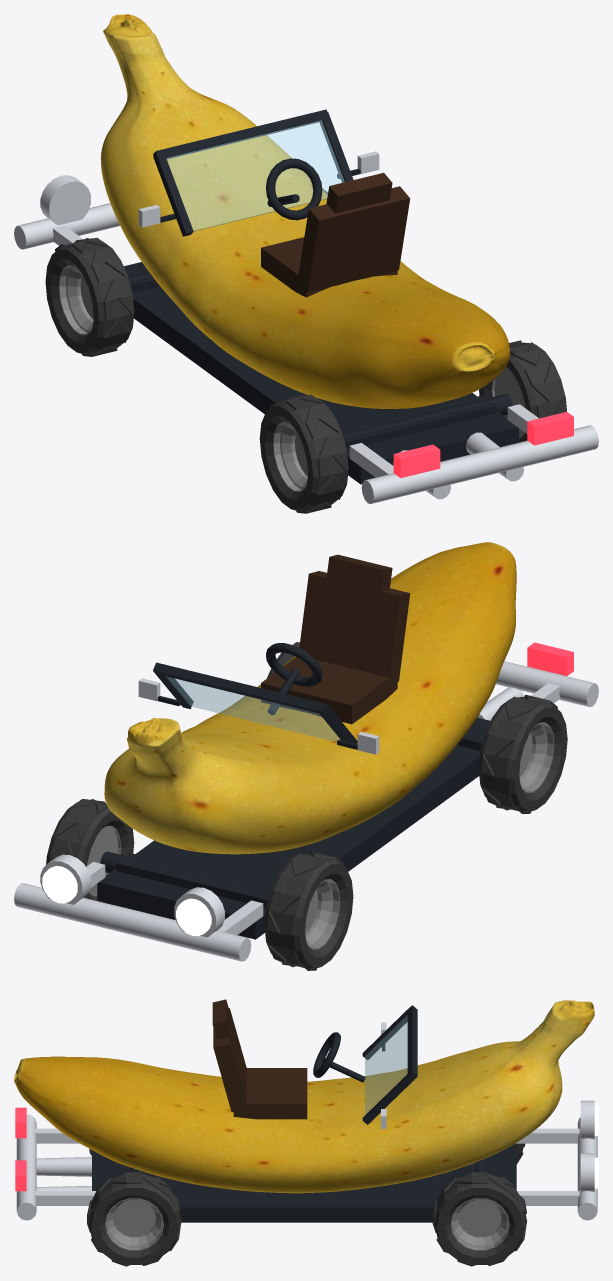
The model's file is banana.glb.
3 renders of one model, top to bottom at view 1: azimuth 30°, elevation 25°; view 2: azimuth 150°, elevation 25°; view 3: azimuth 270°, elevation 25°, orthographic. The views are drawn at different scales.
Visible parts, largest first — view 1: banana_car_body, banana_car_wheel_FL_mesh, banana_car_wheel_RL_mesh, banana_car_wheel_RR_mesh; view 2: banana_car_body, banana_car_wheel_RL_mesh, banana_car_wheel_FL_mesh, banana_car_wheel_FR_mesh; view 3: banana_car_body, banana_car_wheel_RR_mesh, banana_car_wheel_FR_mesh.
Boxes of the visible parts, bbox=[...] form: banana_car_body: bbox=[14, 14, 598, 503]; banana_car_wheel_FL_mesh: bbox=[45, 237, 134, 356]; banana_car_wheel_RL_mesh: bbox=[259, 394, 348, 513]; banana_car_wheel_RR_mesh: bbox=[479, 340, 566, 442]; banana_car_body: bbox=[14, 542, 598, 961]; banana_car_wheel_RL_mesh: bbox=[478, 694, 567, 813]; banana_car_wheel_FL_mesh: bbox=[264, 851, 353, 970]; banana_car_wheel_FR_mesh: bbox=[46, 799, 134, 904]; banana_car_body: bbox=[14, 999, 598, 1222]; banana_car_wheel_RR_mesh: bbox=[87, 1172, 181, 1266]; banana_car_wheel_FR_mesh: bbox=[432, 1172, 527, 1266].
Size of the model in its own units: 0.8366 by 0.83 by 2.07.
Materials: 8 (2 with a texture image).
